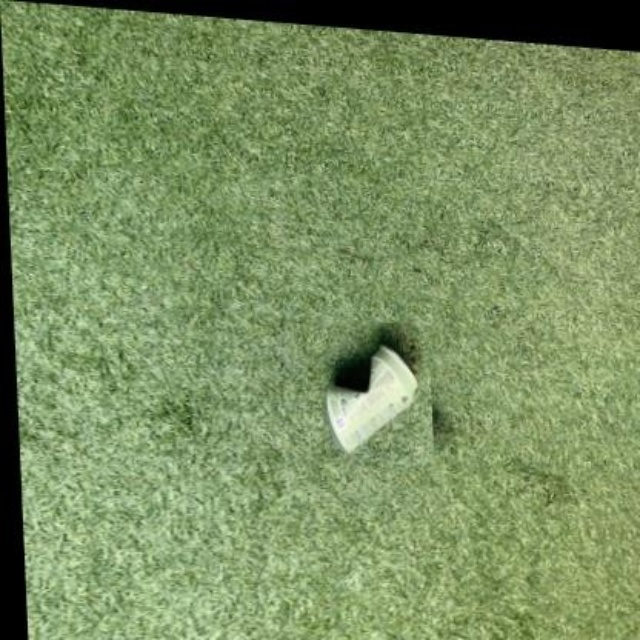trash: (326, 346, 415, 451)
